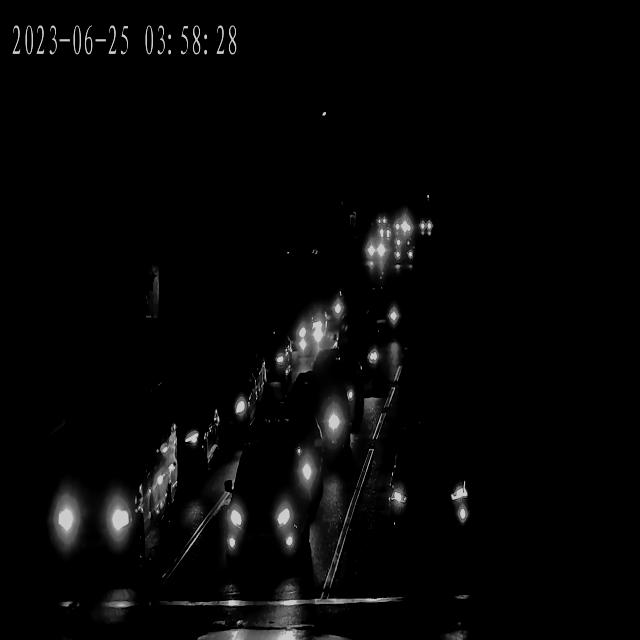Car: (22, 412, 172, 584), (218, 436, 324, 571), (382, 432, 483, 547), (152, 385, 237, 494), (280, 368, 363, 468), (174, 358, 264, 442), (270, 301, 328, 362), (334, 329, 391, 388), (241, 333, 302, 385), (289, 283, 346, 338), (361, 238, 387, 261), (392, 240, 414, 261), (414, 218, 434, 234), (390, 219, 411, 234)
